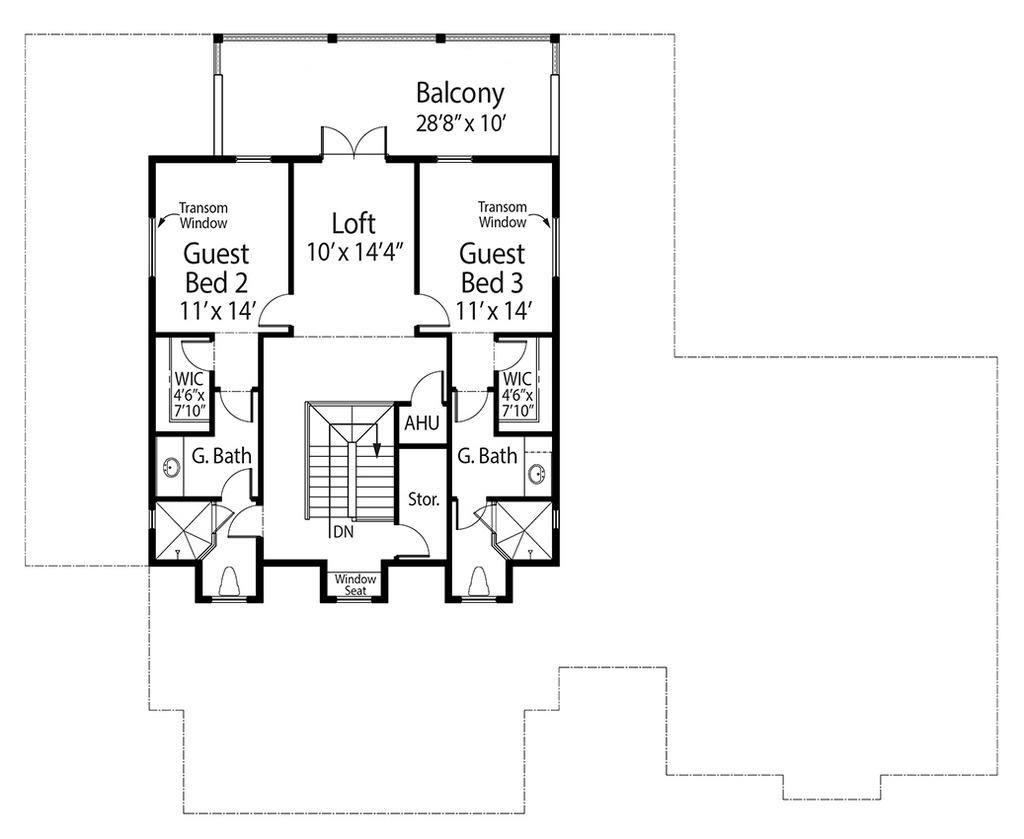door: (314, 124, 391, 165), (213, 384, 257, 425), (256, 292, 297, 333), (415, 291, 452, 333), (449, 386, 492, 422), (395, 519, 431, 561), (178, 336, 214, 373), (494, 337, 528, 374), (215, 467, 251, 499), (409, 373, 442, 407)
large_sink: (458, 560, 493, 597), (215, 561, 239, 597)
small_sink: (156, 437, 185, 497), (524, 452, 554, 498)
stairs: (301, 402, 399, 542)
windows: (142, 210, 162, 277), (548, 215, 564, 280), (231, 148, 280, 168), (437, 151, 472, 169)
